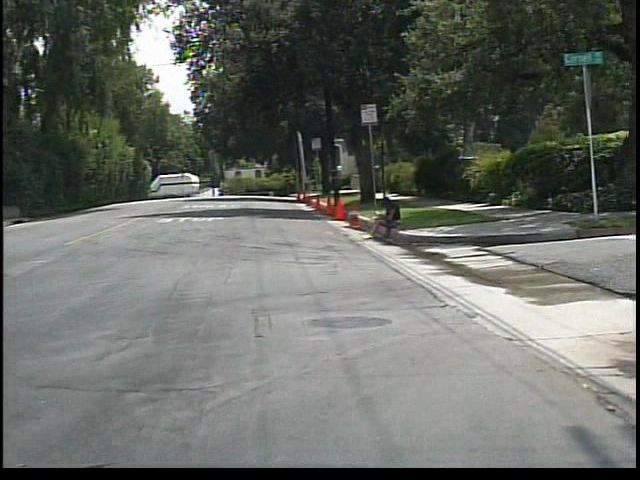person: (362, 191, 415, 244)
